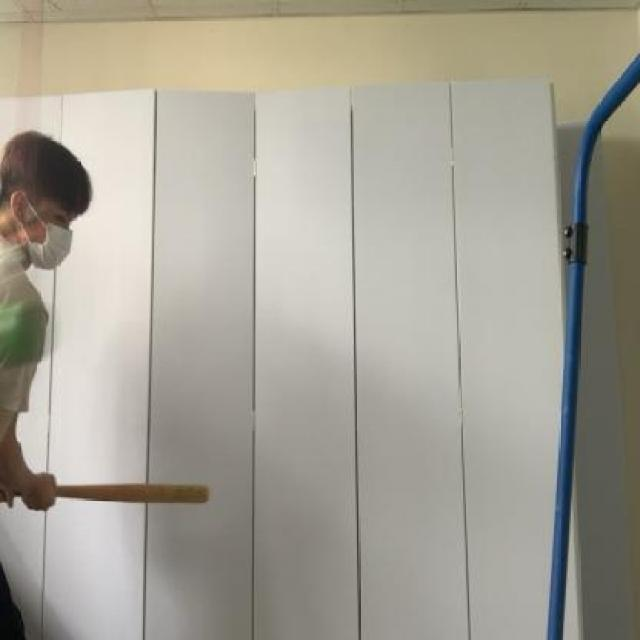baseball: (0, 268, 82, 382)
